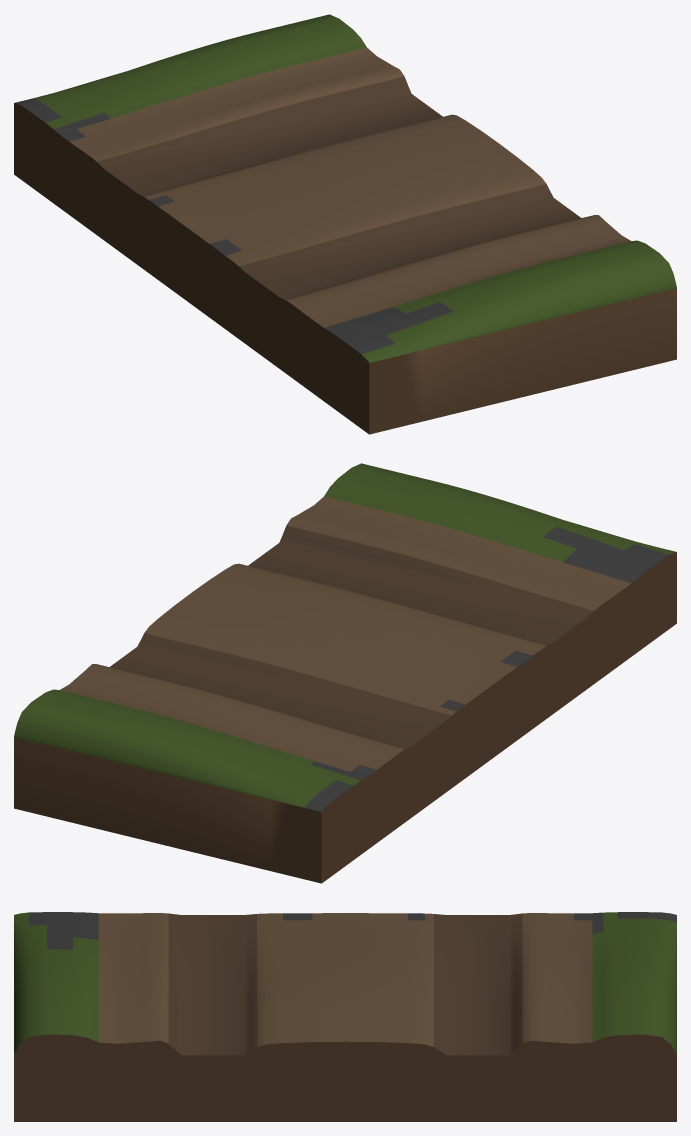
The picture shows the model from 3 angles, top to bottom: view 1: azimuth 30°, elevation 25°; view 2: azimuth 150°, elevation 25°; view 3: azimuth 270°, elevation 25°; orthographic projection. The views are drawn at different scales.
Visible parts, largest first — view 1: r2u; view 2: r2u; view 3: r2u.
Boxes of the visible parts, x1,y1,x2,y2 form: r2u: [14, 14, 676, 434]; r2u: [14, 463, 676, 883]; r2u: [14, 912, 676, 1121].
Bounding box in the file's own units: 4.5 × 1.31 × 9.
